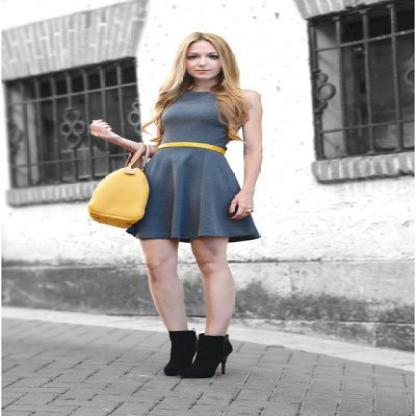bag: (88, 158, 148, 229)
dress: (126, 94, 259, 250)
shoe: (163, 330, 232, 379)
